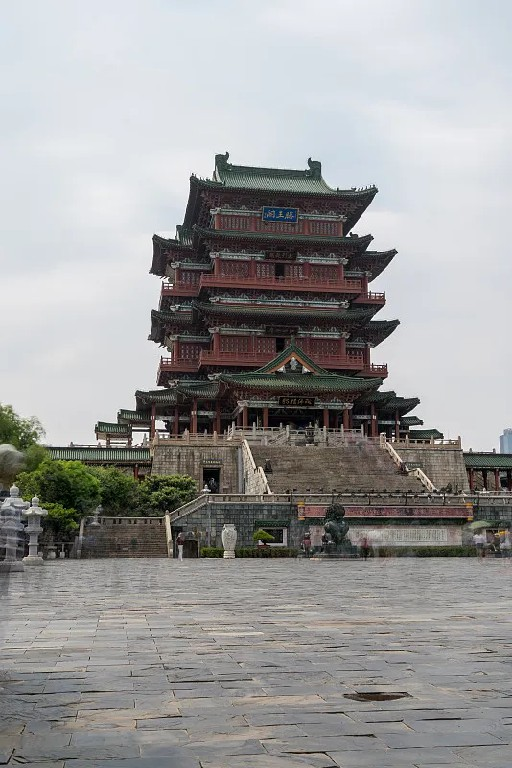Teng: (96, 152, 444, 447)
